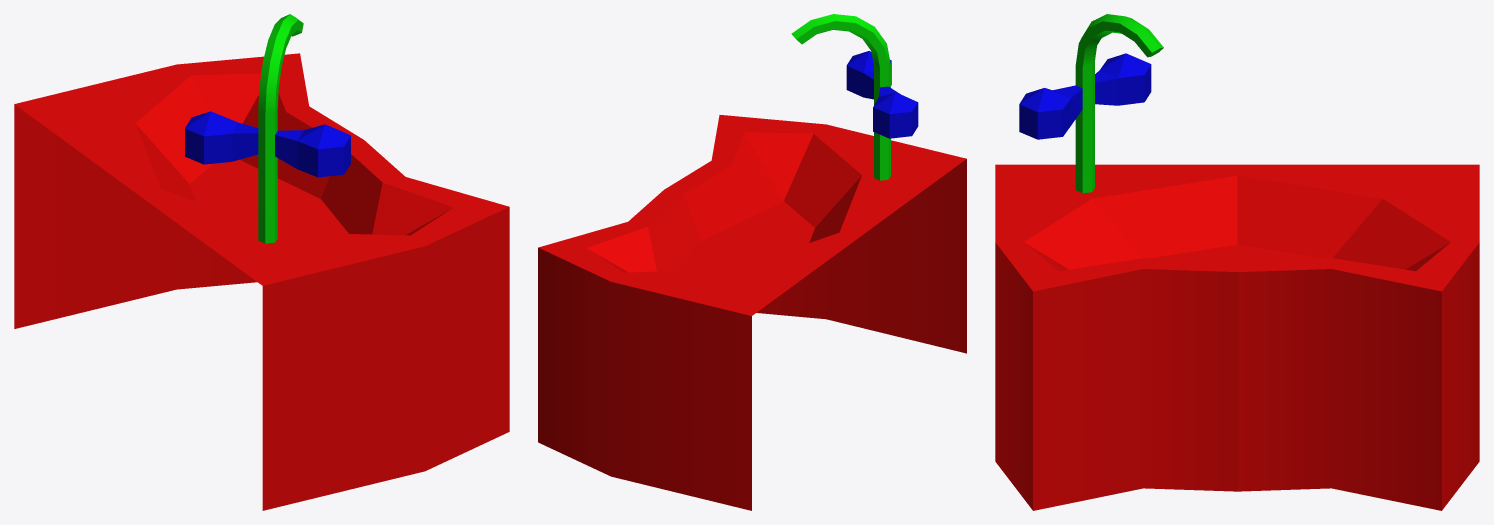
Rendered from Waschbecken_3_low.fbx.
3 renders of one model, left to right at view 1: azimuth 30°, elevation 25°; view 2: azimuth 150°, elevation 25°; view 3: azimuth 270°, elevation 25°, orthographic. The views are drawn at different scales.
Parts seen in each view (by area): view 1: Waschbecken_3_low; view 2: Waschbecken_3_low; view 3: Waschbecken_3_low.
Boxes of the visible parts, bbox=[...] form: Waschbecken_3_low: bbox=[14, 14, 509, 510]; Waschbecken_3_low: bbox=[538, 14, 966, 510]; Waschbecken_3_low: bbox=[995, 14, 1479, 510].
Bounding box in the file's own units: 0.6361 × 0.9328 × 1.
